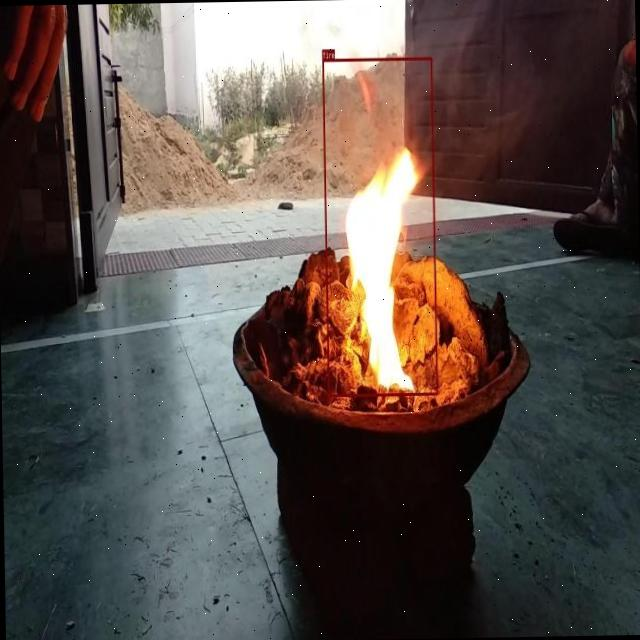fire: (322, 57, 438, 397)
